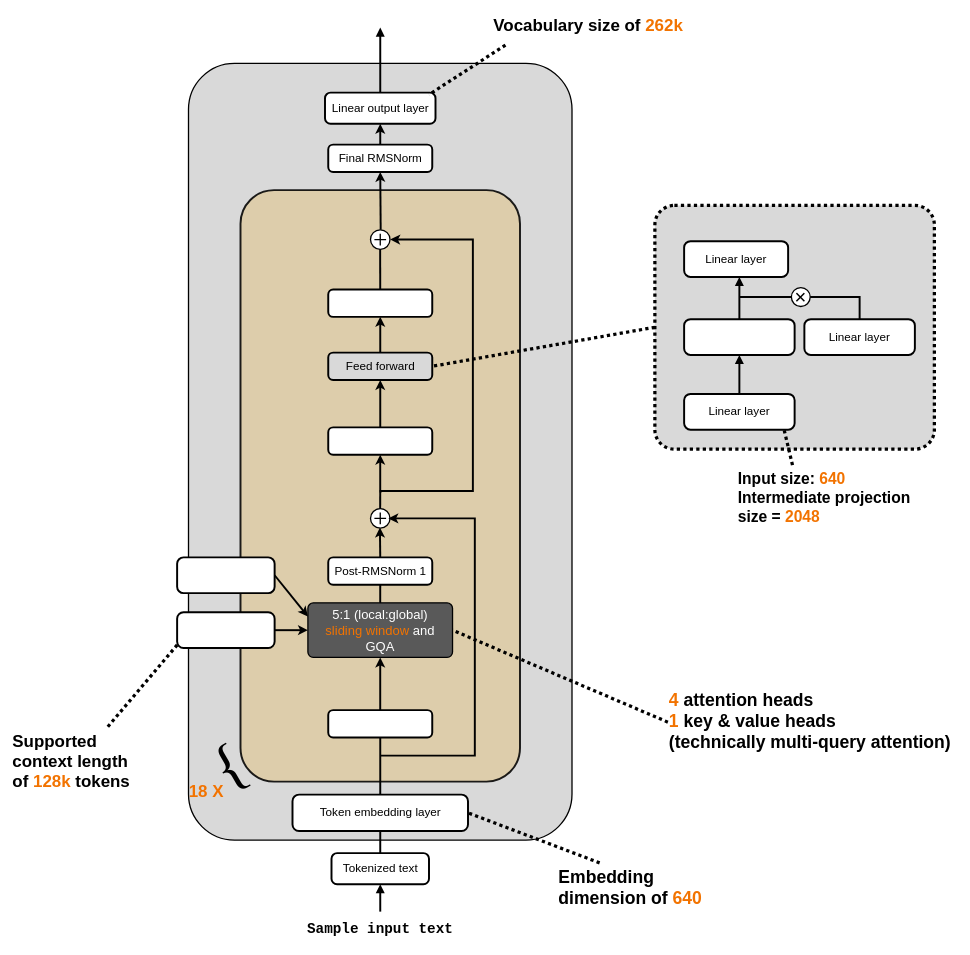
This 970x955 diagram has some shape labels left out. Here are the shapes that lost their labels. From the top down, the centre of each, then its label:
At pixel 380 303: "Post-RMSNorm 2".
At pixel 739 337: "GELU activation".
At pixel 380 440: "Pre-RMSNorm 2".
At pixel 225 575: "QK-Norm".
At pixel 225 630: "RoPE".
At pixel 380 723: "Pre-RMSNorm 1".
